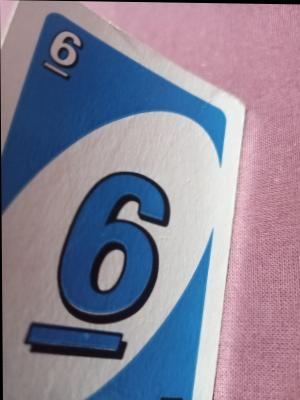blue: (26, 27, 194, 390)
num_6: (39, 22, 91, 87)
